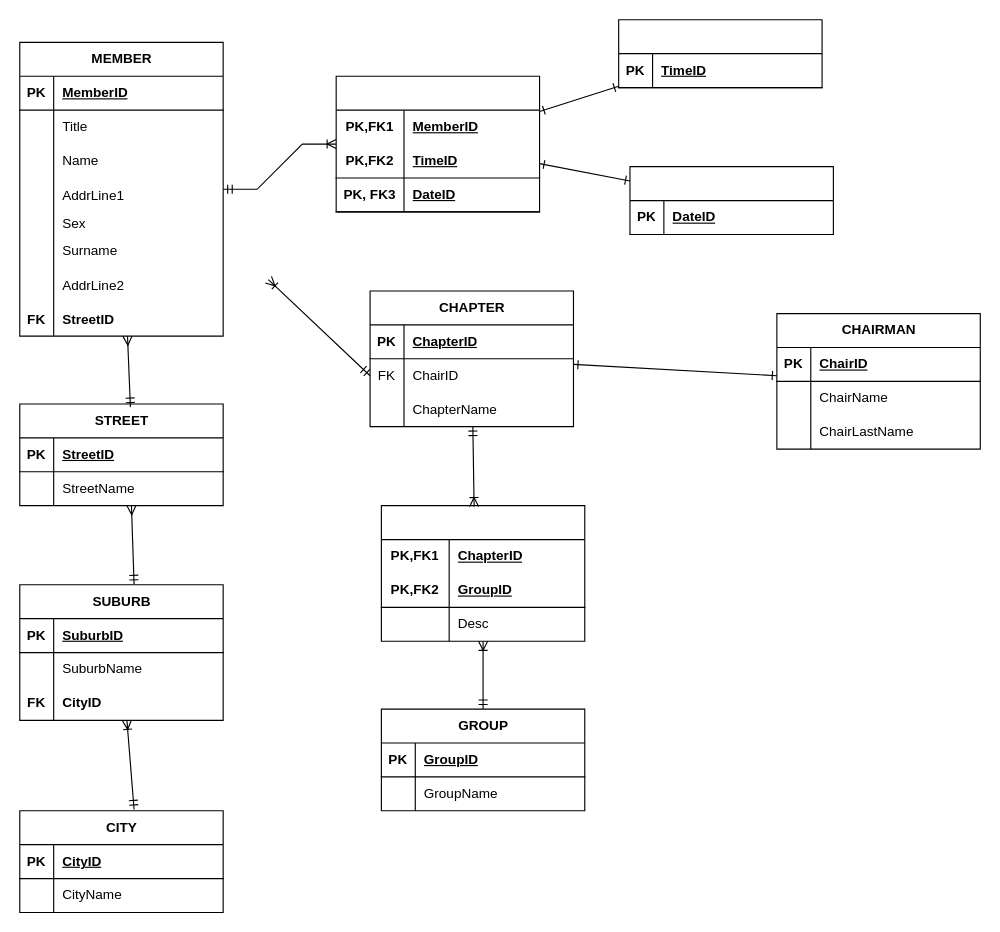
This 1000x932 diagram has some shape labels left out. Here are the shapes that lost their labels. From the top down, the box of each, then its label:
(618, 19, 822, 88): TIMESESSION
(335, 75, 540, 212): SESSION
(629, 166, 833, 234): DATESESSION
(380, 505, 585, 641): GroupChapter
